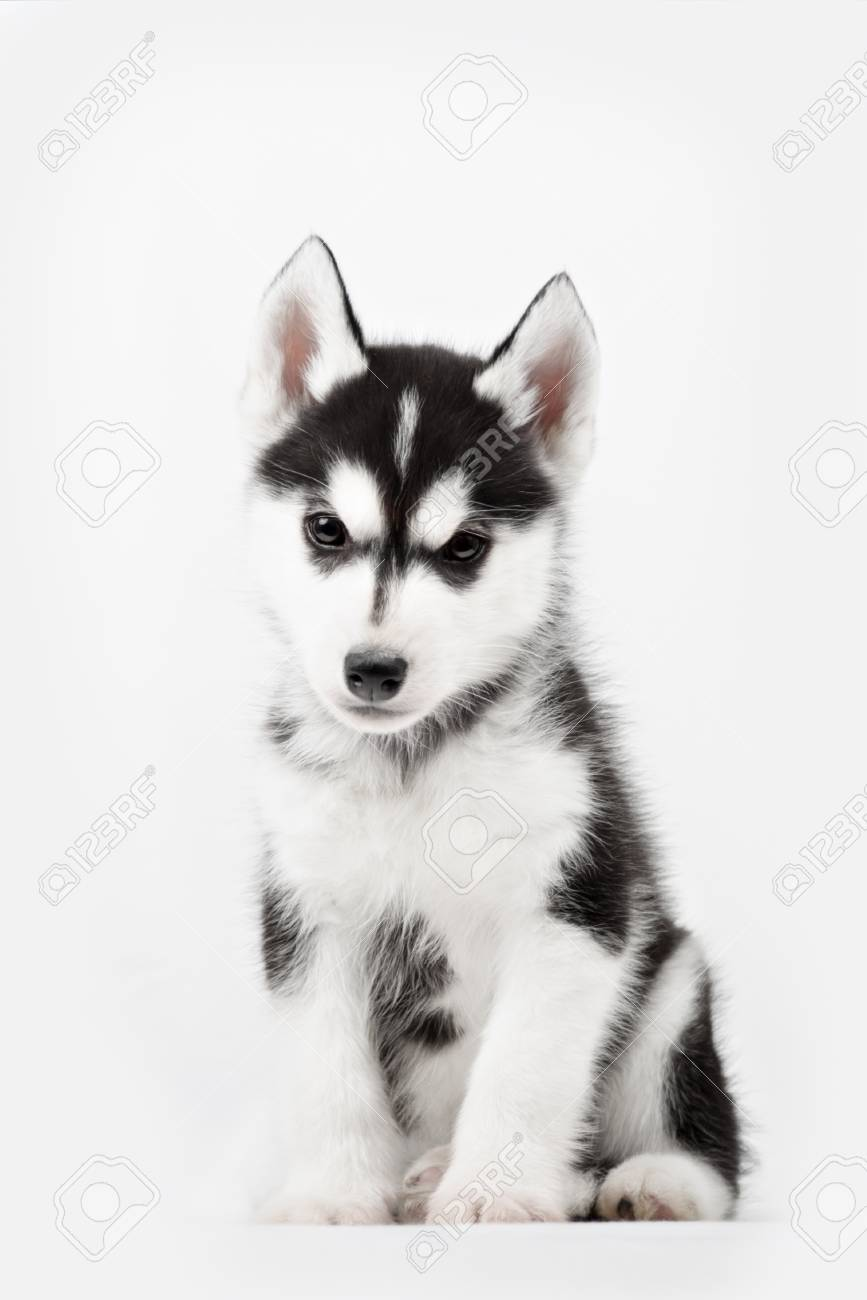husky: (210, 222, 756, 1224)
